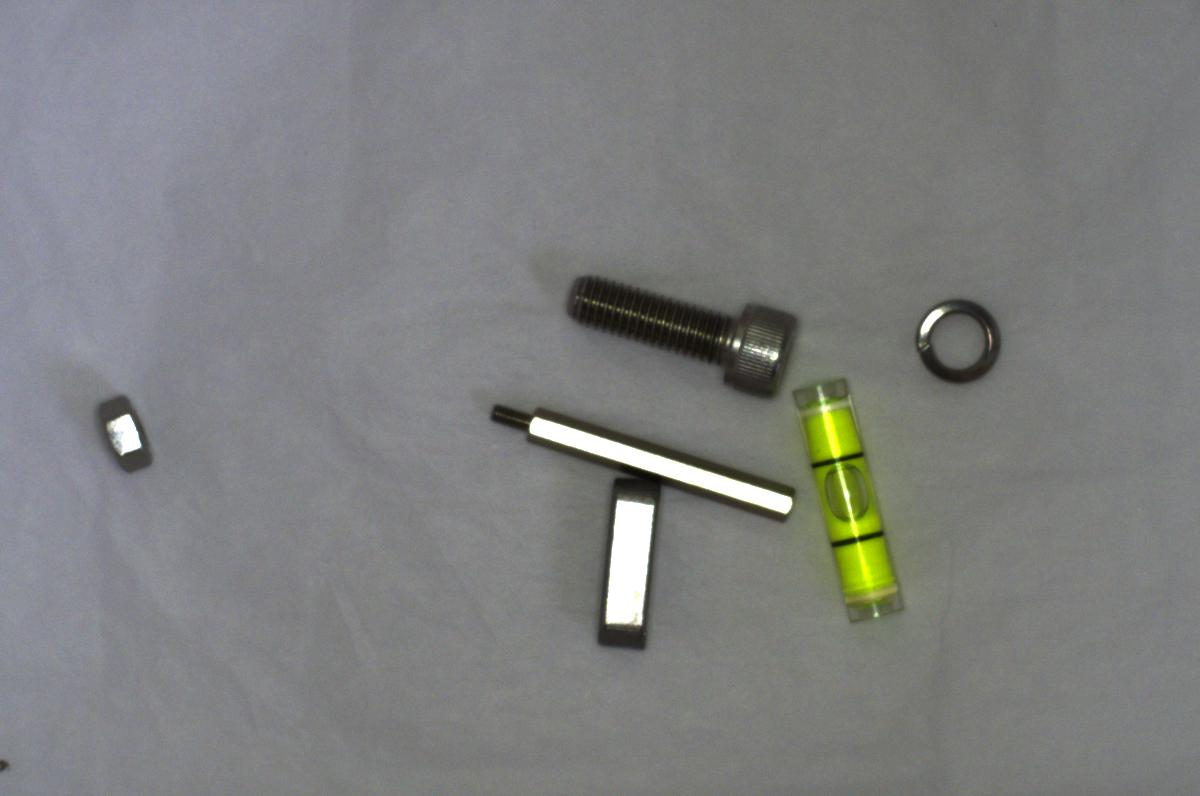Hexagon nut: (91, 389, 155, 476)
Hexagon screw: (557, 263, 795, 389)
Hexagonal steel column: (480, 394, 799, 523)
Horizontal bubble: (782, 374, 899, 626)
Keybar: (593, 473, 670, 650)
Spring washer: (907, 293, 1010, 387)
